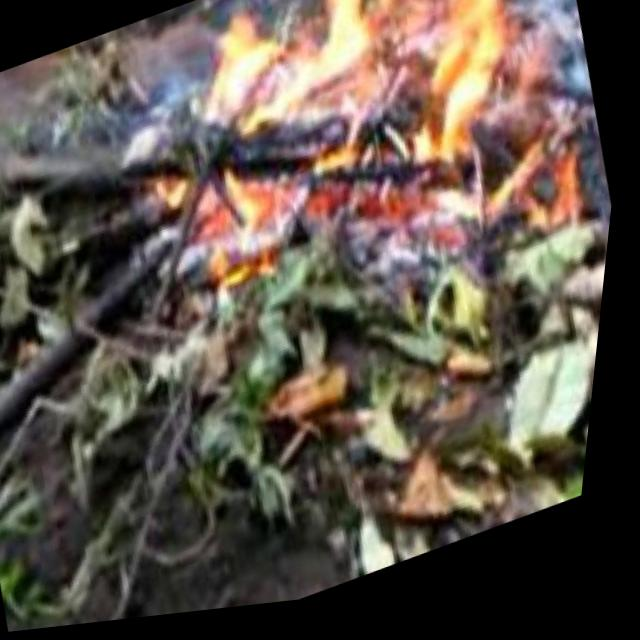Fire: (169, 0, 419, 197), (363, 0, 603, 205)
